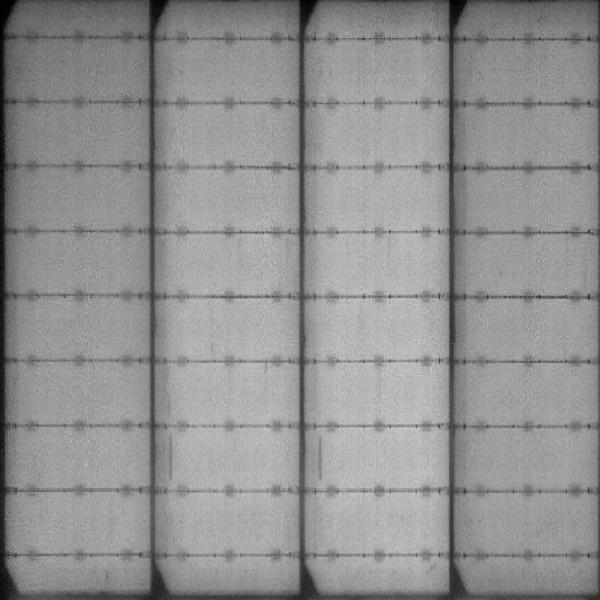scratch: (316, 435, 326, 482), (165, 437, 175, 477)
